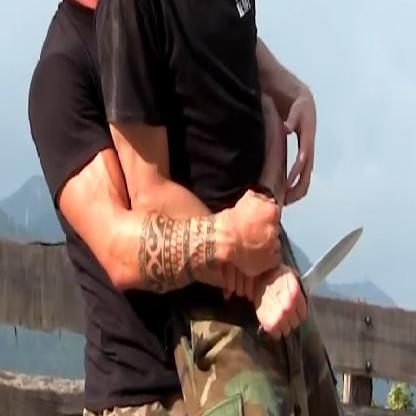knife: (252, 216, 366, 349)
